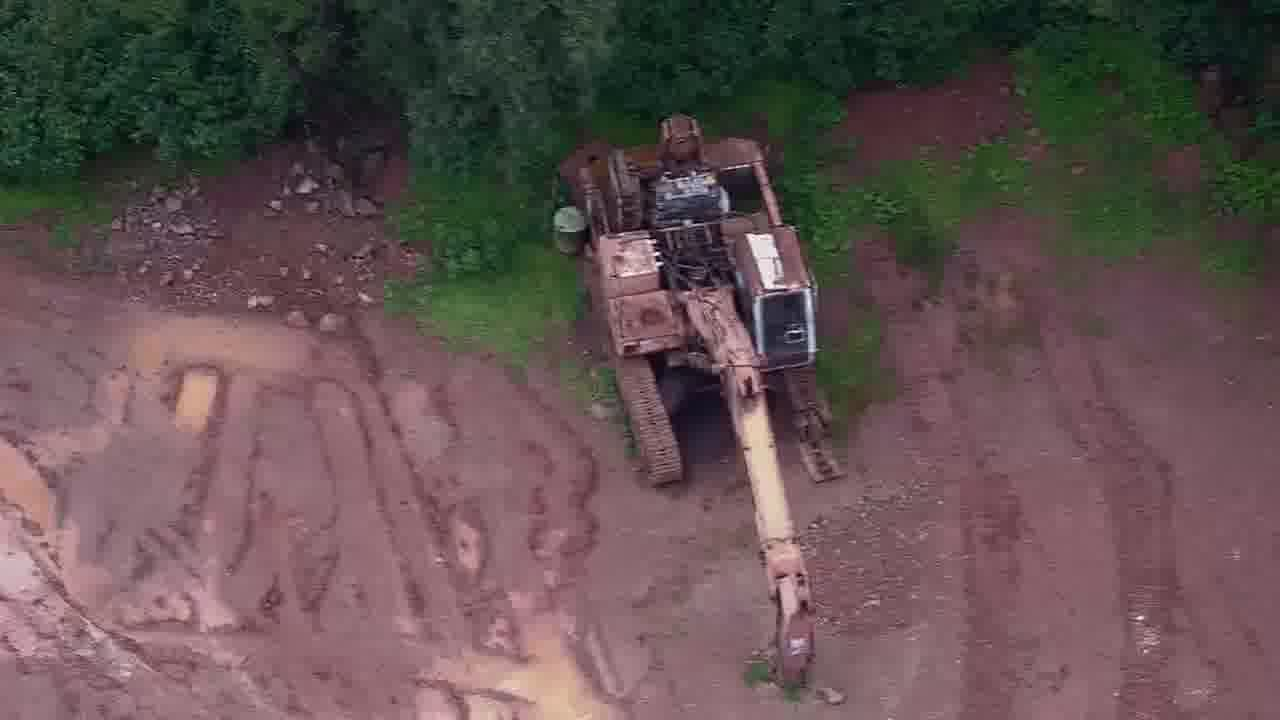HMV: (551, 99, 869, 699)
